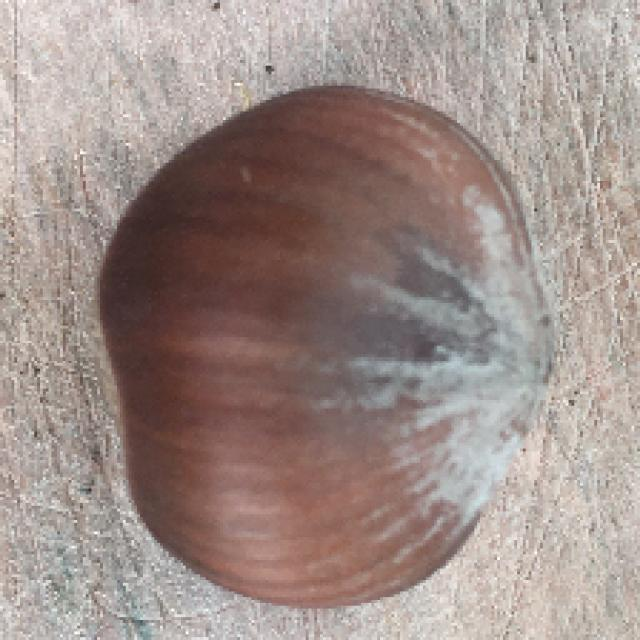qualityHazelnut: (88, 80, 553, 600)
